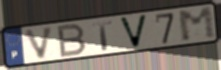7: (154, 12, 176, 45)
B: (57, 22, 89, 59)
M: (176, 5, 218, 44)
T: (91, 19, 114, 51)
V: (23, 25, 56, 61), (117, 13, 149, 49)
